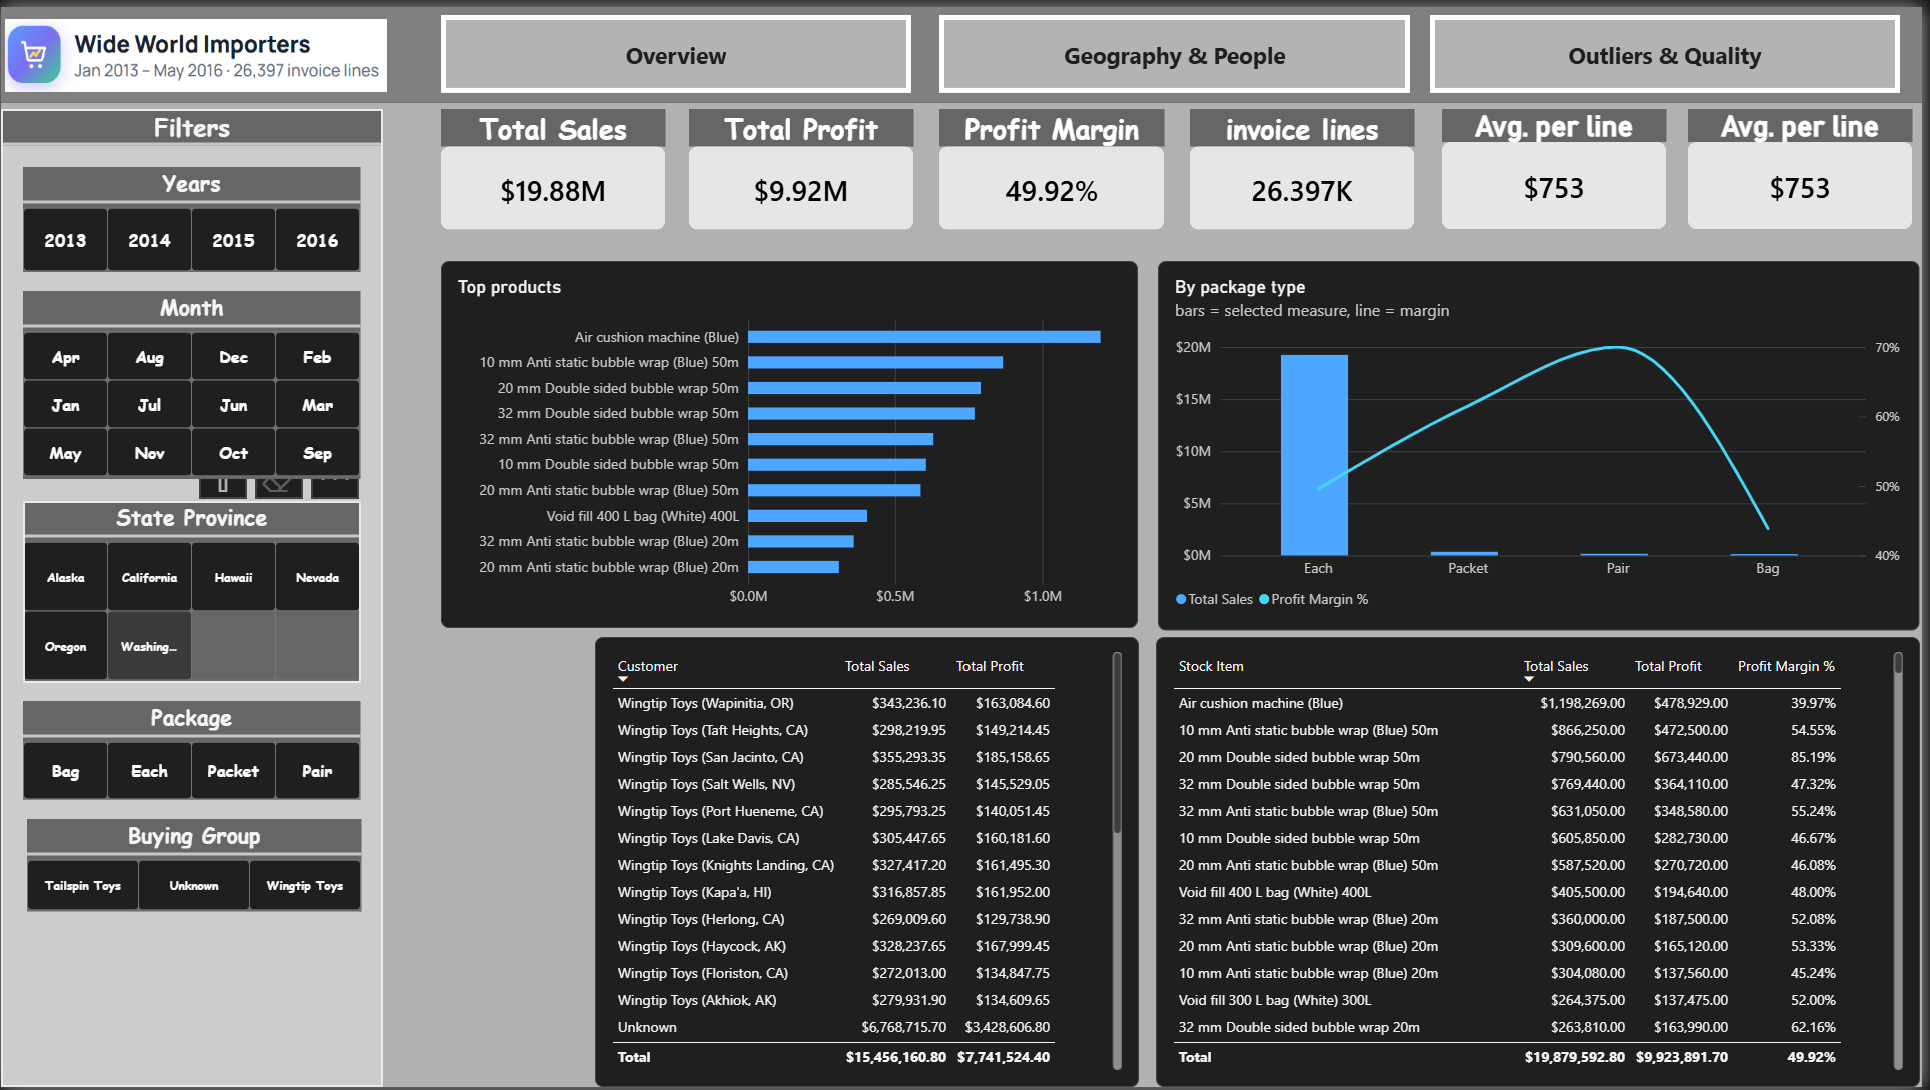

The page's visual inventory and layout, read from the dashboard file:
{"tool":"powerbi","page":{"name":"Products & Customers","canvas":[1920,1080],"ordinal":1},"visuals":[{"type":"shape","title":"Filters","box":[0,101.9,382.1,977.5],"z":0,"group":"g1"},{"type":"barChart","title":"Top products","fields":{"Category":["DimStockItem.Stock Item"],"Y":["FactSale.Total Sales"]},"box":[439.8,253.8,696.1,366.9],"z":0},{"type":"group","id":"g1","title":"Group 3","box":[0,101.9,382.1,977.5],"z":1000},{"type":"advancedSlicerVisual","title":"State Province","fields":{"Values":["DimCity.State Province"]},"box":[22.3,493.5,337.5,181.5],"z":1000,"group":"g1"},{"type":"group","id":"g2","title":"Group 2","box":[0,0,1920,95.5],"z":2000},{"type":"advancedSlicerVisual","title":"Years","fields":{"Values":["DimDate.Calendar Year"]},"box":[22.3,159.2,337.5,105.1],"z":2000,"group":"g1"},{"type":"advancedSlicerVisual","title":"Month","fields":{"Values":["DimDate.Short Month"]},"box":[22.3,283.4,337.5,187.9],"z":3000,"group":"g1"},{"type":"tableEx","fields":{"Values":["DimStockItem.Stock Item","FactSale.Total Sales","FactSale.Total Profit","FactSale.Profit Margin %"]},"box":[1153.5,630.8,764,449.8],"z":3000},{"type":"lineStackedColumnComboChart","title":"By package type","fields":{"Category":["FactSale.Package"],"Y":["FactSale.Total Sales"],"Y2":["FactSale.Profit Margin %"]},"box":[1156,253.8,761.5,369.4],"z":4000},{"type":"cardVisual","title":"Total Sales","fields":{"Data":["FactSale.Total Sales"]},"box":[439.4,101.9,224.3,121],"z":5000,"group":"g3"},{"type":"tableEx","fields":{"Values":["DimCustomer.Customer","FactSale.Total Sales","FactSale.Total Profit"]},"box":[593.1,630.8,542.8,449.8],"z":5000},{"type":"advancedSlicerVisual","fields":{"Values":["DimCustomer.Buying Group"]},"box":[25.5,811.9,334.3,92.3],"z":5000,"group":"g1"},{"type":"group","id":"g3","title":"Group 1","box":[439.4,101.9,1471,121],"z":6000},{"type":"advancedSlicerVisual","title":"Package","fields":{"Values":["FactSale.Package"]},"box":[22.3,694.1,337.5,98.7],"z":6000,"group":"g1"},{"type":"shape","box":[0,0,1920,95.5],"z":7000,"group":"g2"},{"type":"shape","box":[439.8,7.5,469.9,77.9],"z":7000},{"type":"cardVisual","title":"Avg. per line","fields":{"Data":["FactSale.Avg. per line"]},"box":[1438.8,101.9,224.3,121],"z":7500,"group":"g3"},{"type":"shape","box":[937.4,7.5,469.9,77.9],"z":8000},{"type":"image","box":[3.2,12.7,382.1,73.2],"z":8000,"group":"g2"},{"type":"shape","box":[1427.4,7.5,469.9,77.9],"z":9000},{"type":"cardVisual","title":"Avg. per line","fields":{"Data":["FactSale.Avg. per line"]},"box":[1686.2,101.9,224.3,121],"z":10000,"group":"g3"},{"type":"cardVisual","title":"invoice lines","fields":{"Data":["FactSale.Invoice Lines"]},"box":[1188.1,101.9,224.3,121],"z":11000,"group":"g3"},{"type":"cardVisual","title":"Profit Margin","fields":{"Data":["FactSale.Profit Margin %"]},"box":[937.4,101.9,224.3,121],"z":12000,"group":"g3"},{"type":"cardVisual","title":"Total Profit","fields":{"Data":["FactSale.Total Profit"]},"box":[686.8,101.9,224.3,121],"z":13000,"group":"g3"}]}

Visuals, with their boxes in screenshot pixels (x1, y1, x2, y2), scaled from the page's 1920x1080 canvas onto the 1930x1090 screenshot:
"Filters" shape: detection(0, 103, 384, 1089)
"Top products" barChart: detection(442, 256, 1142, 626)
"Group 3" group: detection(0, 103, 384, 1089)
"State Province" advancedSlicerVisual: detection(22, 498, 362, 681)
"Group 2" group: detection(0, 0, 1929, 96)
"Years" advancedSlicerVisual: detection(22, 161, 362, 267)
"Month" advancedSlicerVisual: detection(22, 286, 362, 476)
tableEx - DimStockItem.Stock Item x FactSale.Total Sales: detection(1160, 637, 1927, 1089)
"By package type" lineStackedColumnComboChart: detection(1162, 256, 1927, 629)
"Total Sales" cardVisual: detection(442, 103, 667, 225)
tableEx - DimCustomer.Customer x FactSale.Total Sales: detection(596, 637, 1142, 1089)
advancedSlicerVisual - DimCustomer.Buying Group: detection(26, 819, 362, 913)
"Group 1" group: detection(442, 103, 1920, 225)
"Package" advancedSlicerVisual: detection(22, 701, 362, 800)
shape: detection(0, 0, 1929, 96)
shape: detection(442, 8, 914, 86)
"Avg. per line" cardVisual: detection(1446, 103, 1672, 225)
shape: detection(942, 8, 1415, 86)
image: detection(3, 13, 387, 87)
shape: detection(1435, 8, 1907, 86)
"Avg. per line" cardVisual: detection(1695, 103, 1920, 225)
"invoice lines" cardVisual: detection(1194, 103, 1420, 225)
"Profit Margin" cardVisual: detection(942, 103, 1168, 225)
"Total Profit" cardVisual: detection(690, 103, 916, 225)
